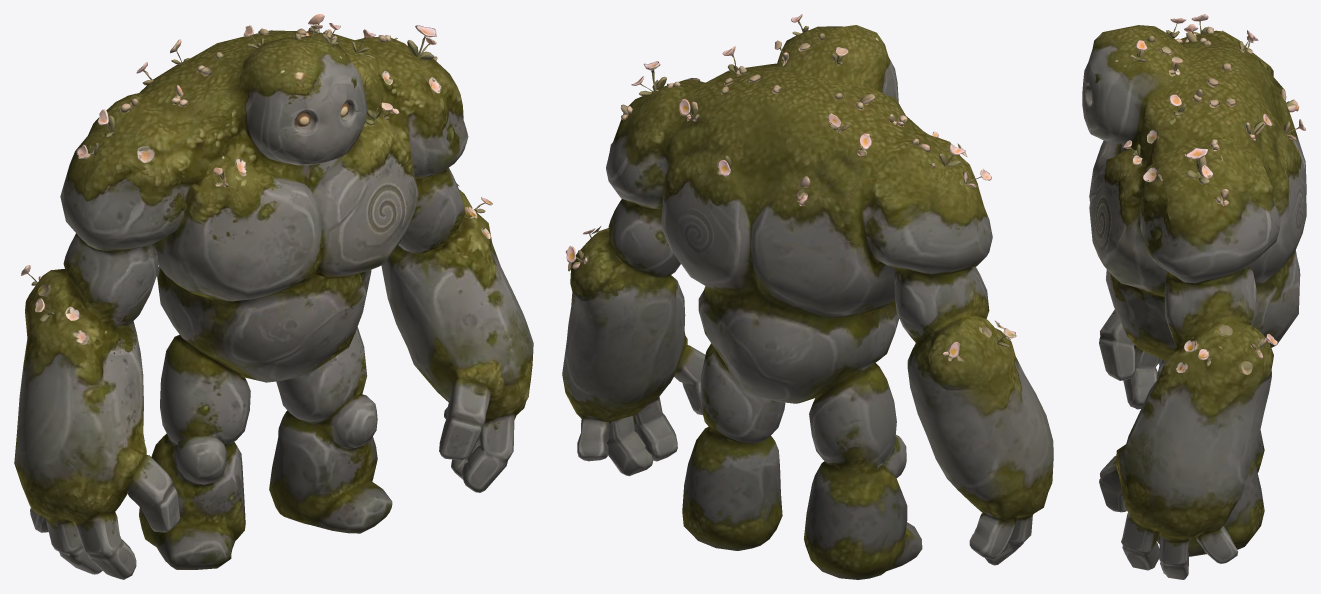
Rendered from golem.glb.
The picture shows the model from 3 angles, left to right: view 1: azimuth 30°, elevation 25°; view 2: azimuth 150°, elevation 25°; view 3: azimuth 270°, elevation 25°; orthographic projection. The views are drawn at different scales.
Bounding box in the file's own units: 0.9877 × 1 × 0.4186.
Materials: 1 (1 with a texture image).
